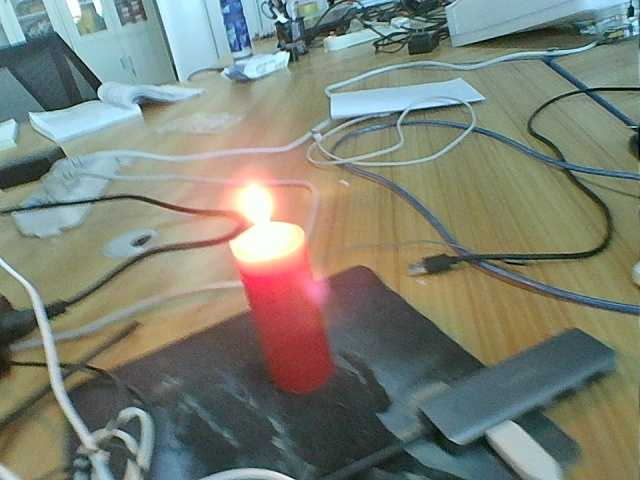candle: (225, 259, 341, 392)
fire: (228, 183, 295, 251)
